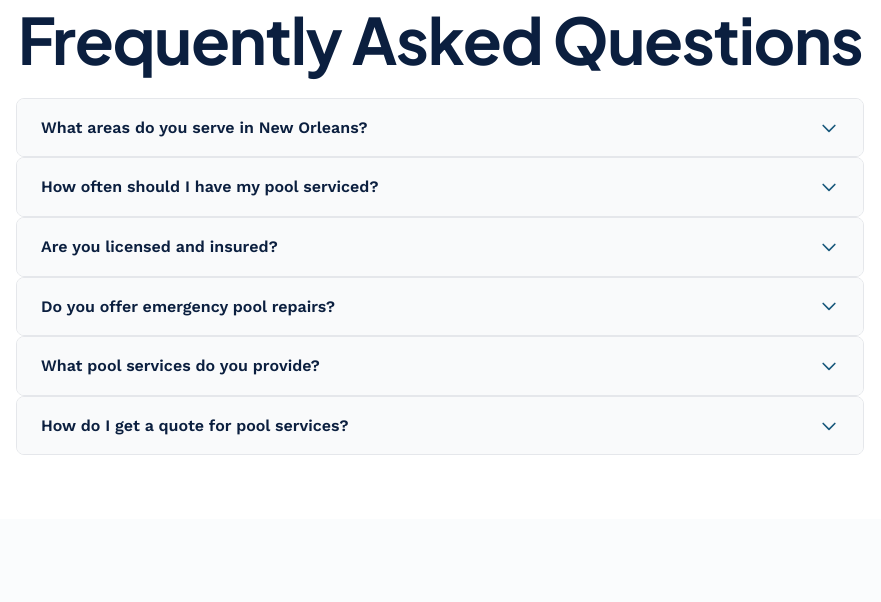
Test: FAQ Component › Clicking question toggles answer visibility › toggles multiple FAQ items independently
# Open first FAQ
Click the button "What areas do you serve in New Orleans?". click: {"x": 204, "y": 127}
box: left=17, top=99, right=863, bottom=156
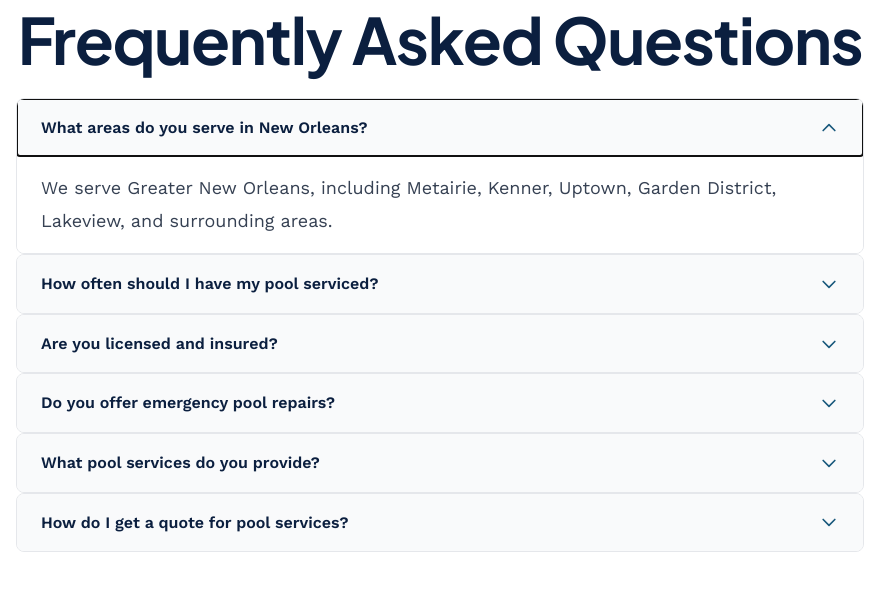
expect the text "We serve Greater New Orleans" is shown: met, box left=41, top=177, right=776, bottom=231
# Open second FAQ
Click the button "How often should I have my pool serviced?". click: {"x": 210, "y": 284}
box: left=17, top=255, right=863, bottom=313
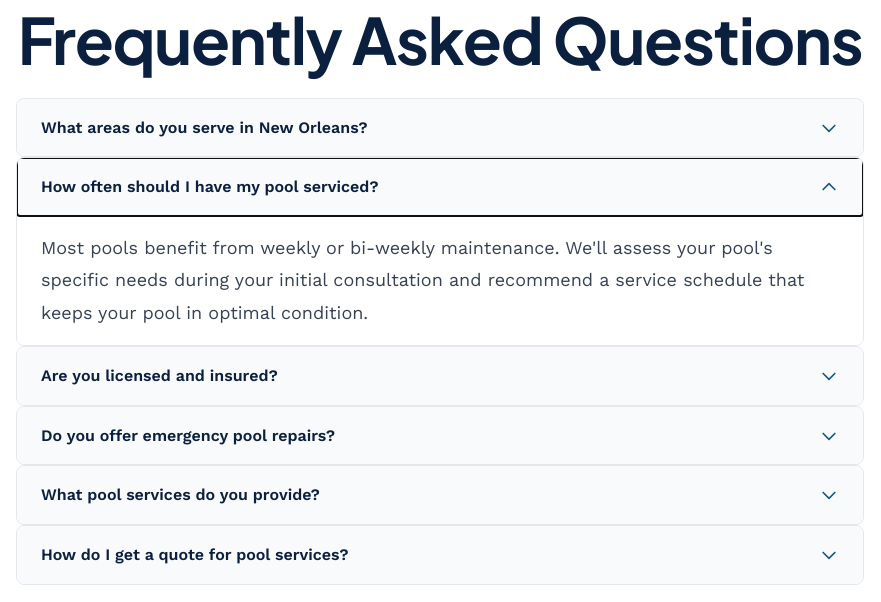
expect the text "Most pools benefit from weekly" is shown: met, box left=41, top=237, right=804, bottom=323
